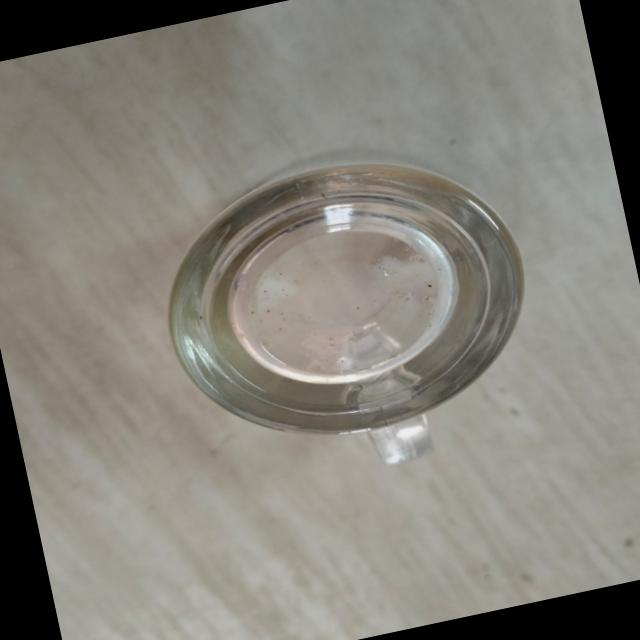glass-VX4N: (143, 126, 558, 502)
